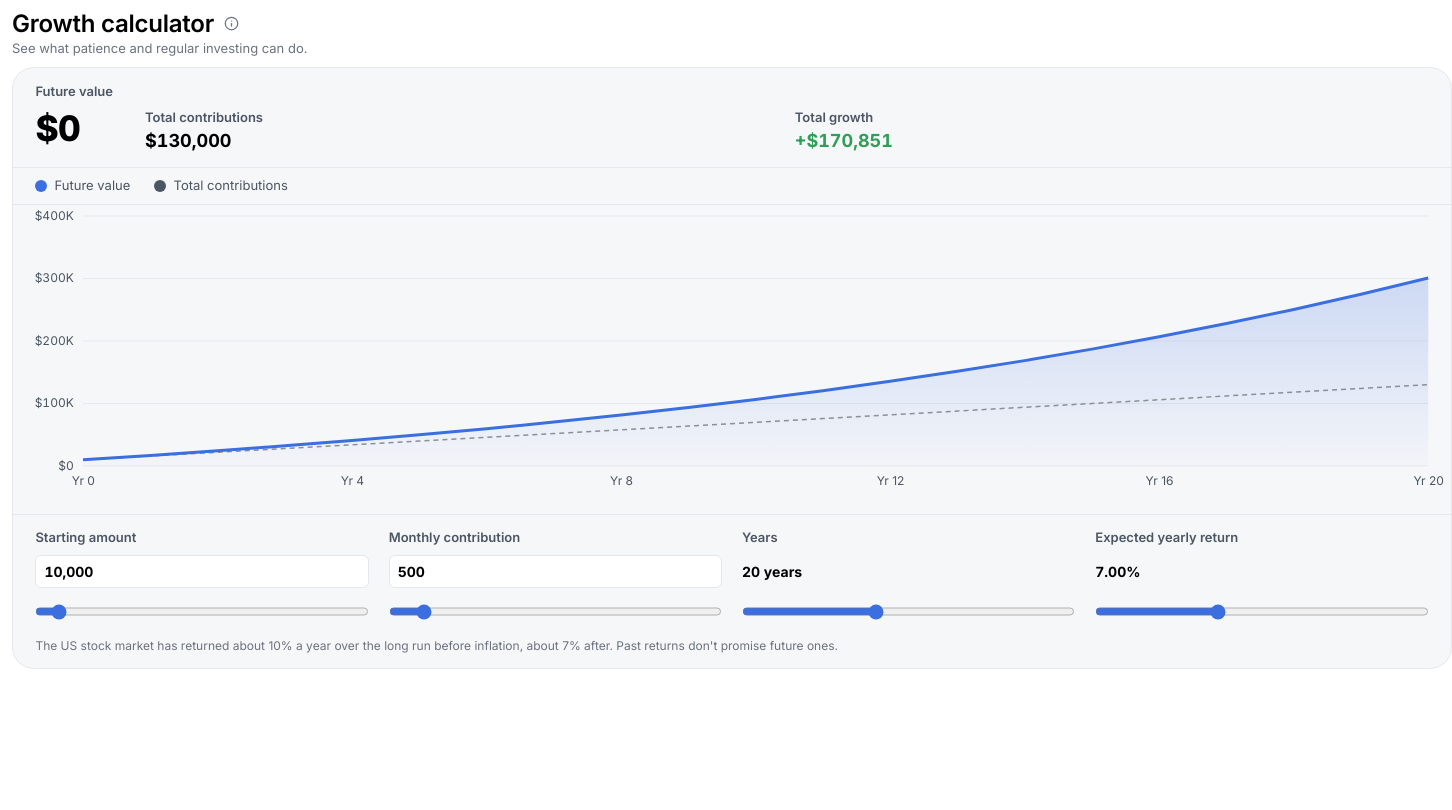
Scenario: GrowthCalculator › shows future value, contributions and growth, and follows the sliders
Set the slider named "Starting amount" to "100000": [75, 612] box left=35, top=593, right=369, bottom=630
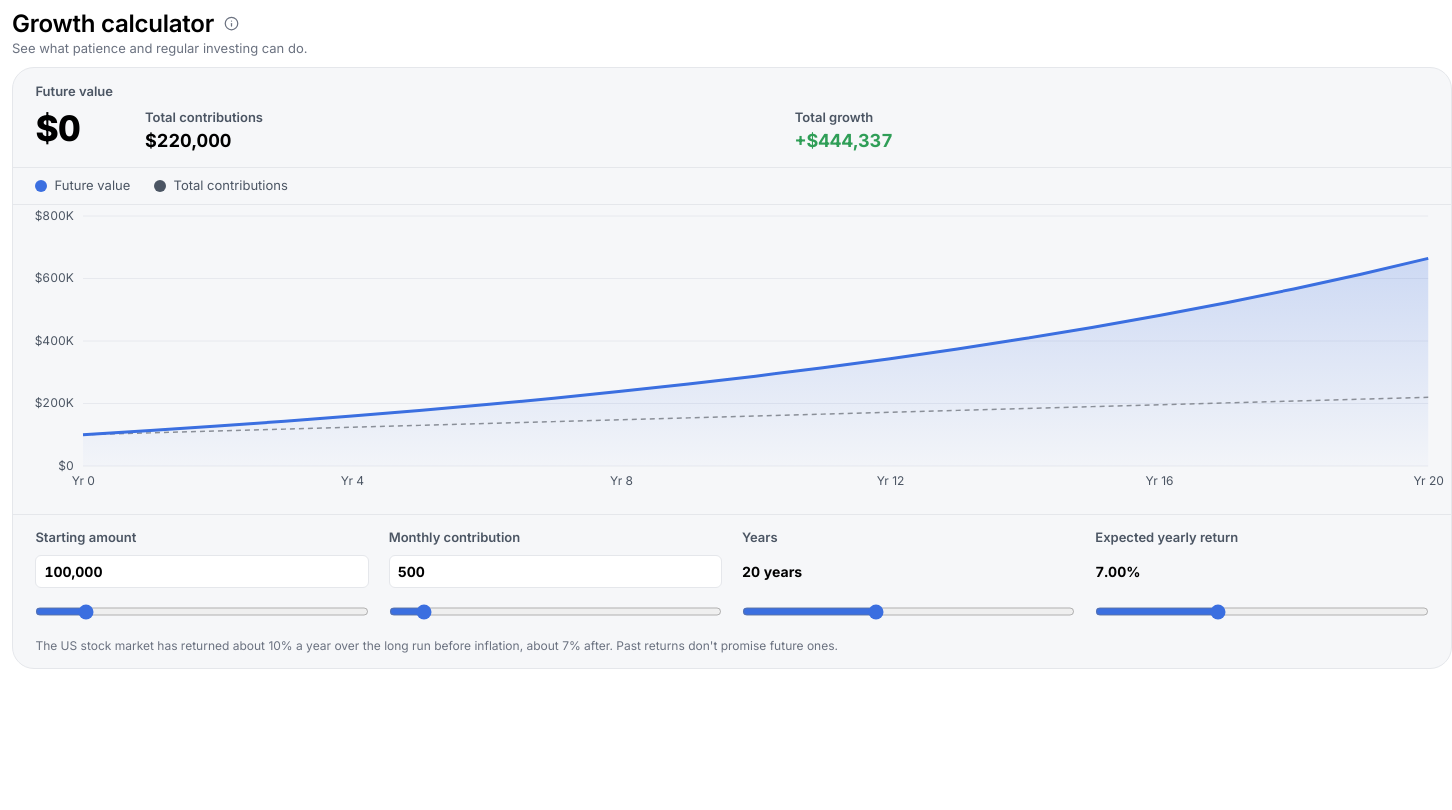
Set the slider named "Monthly contribution" to "875": [424, 612] box left=389, top=593, right=722, bottom=630
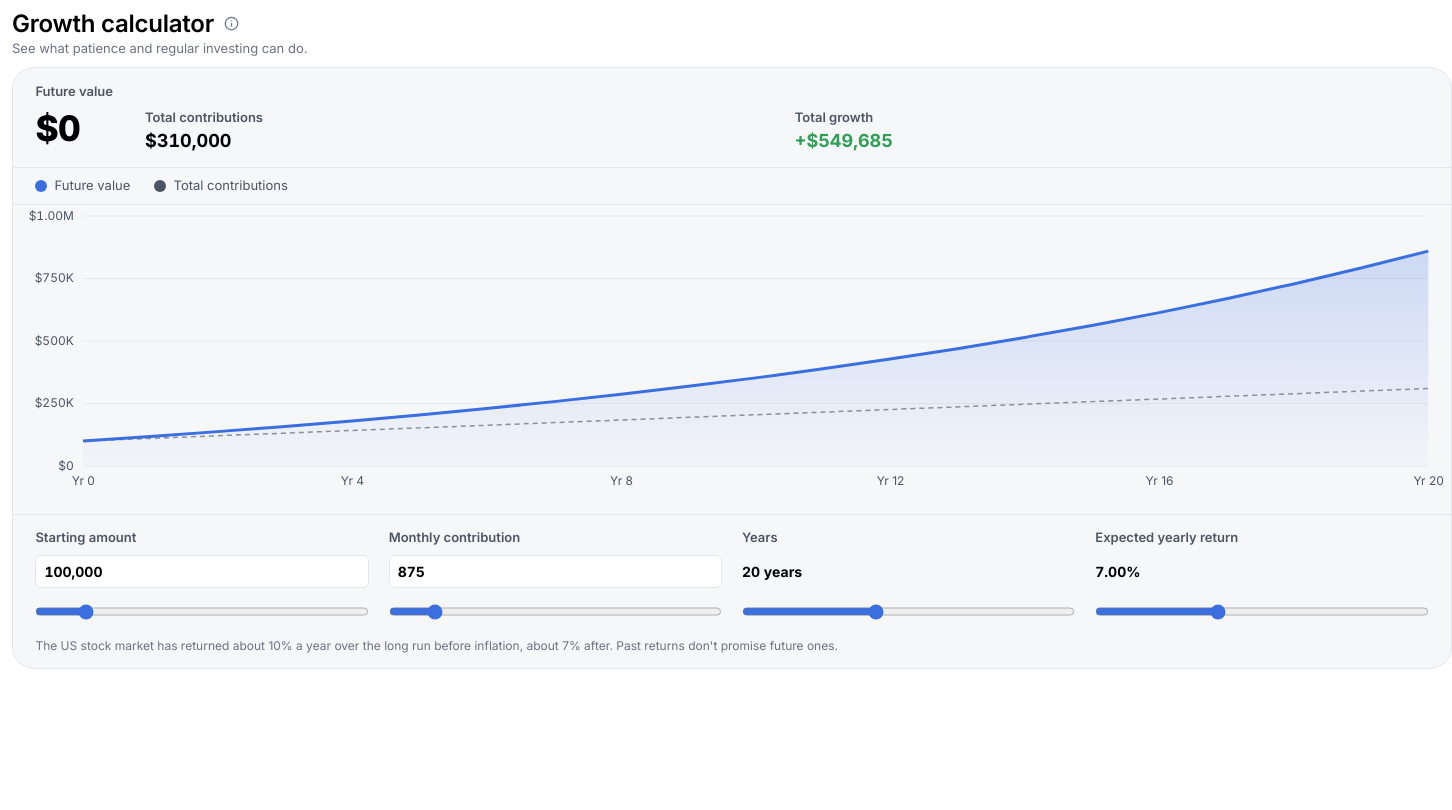
Set the slider named "Expected yearly return" to "10.75": [1274, 612] box left=1095, top=593, right=1429, bottom=630
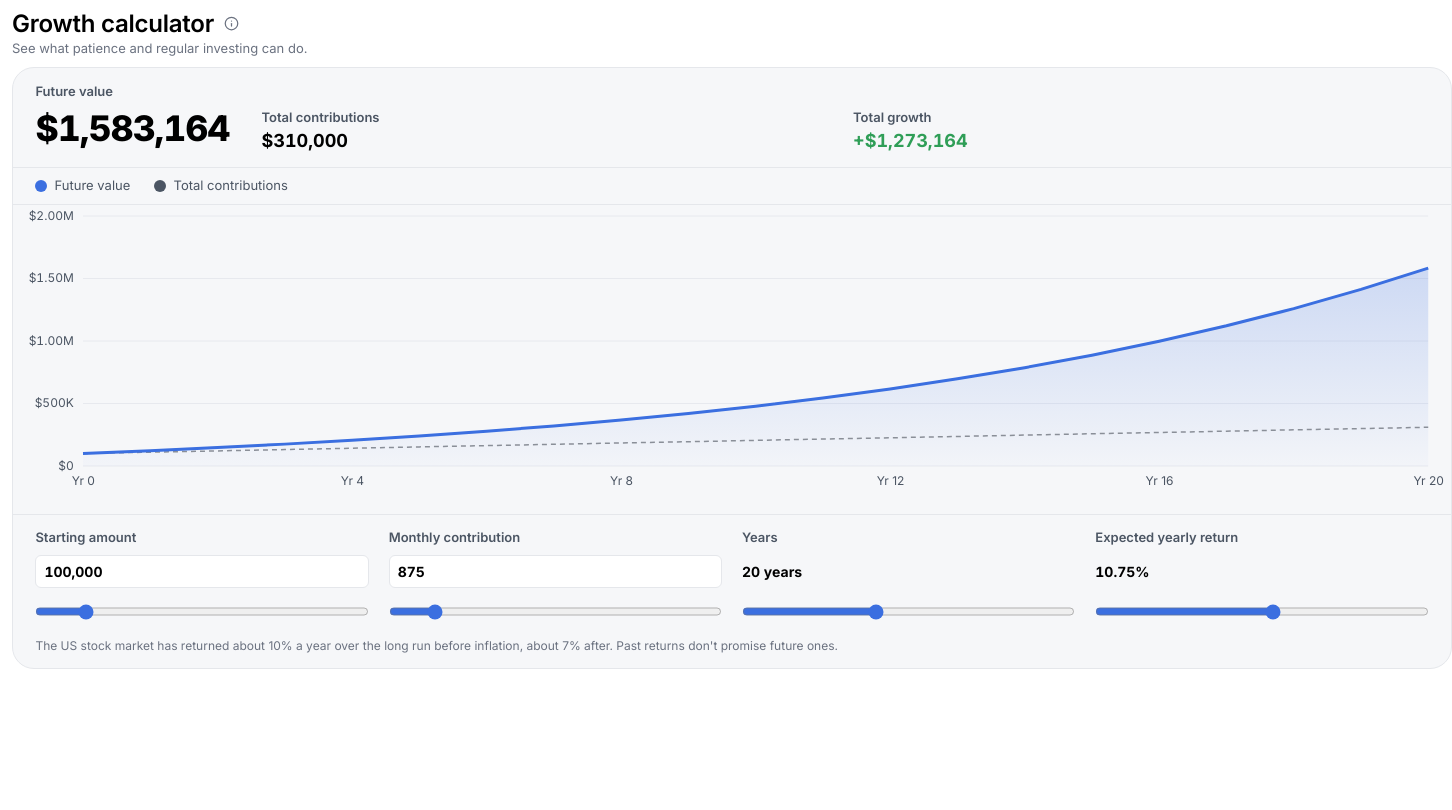
Result: the text "$310,000" is shown at left=262, top=130, right=348, bottom=151
Result: the text "$1,583,164" is shown at left=35, top=102, right=230, bottom=154
Result: the text "+$1,273,164" is shown at left=853, top=130, right=968, bottom=151
